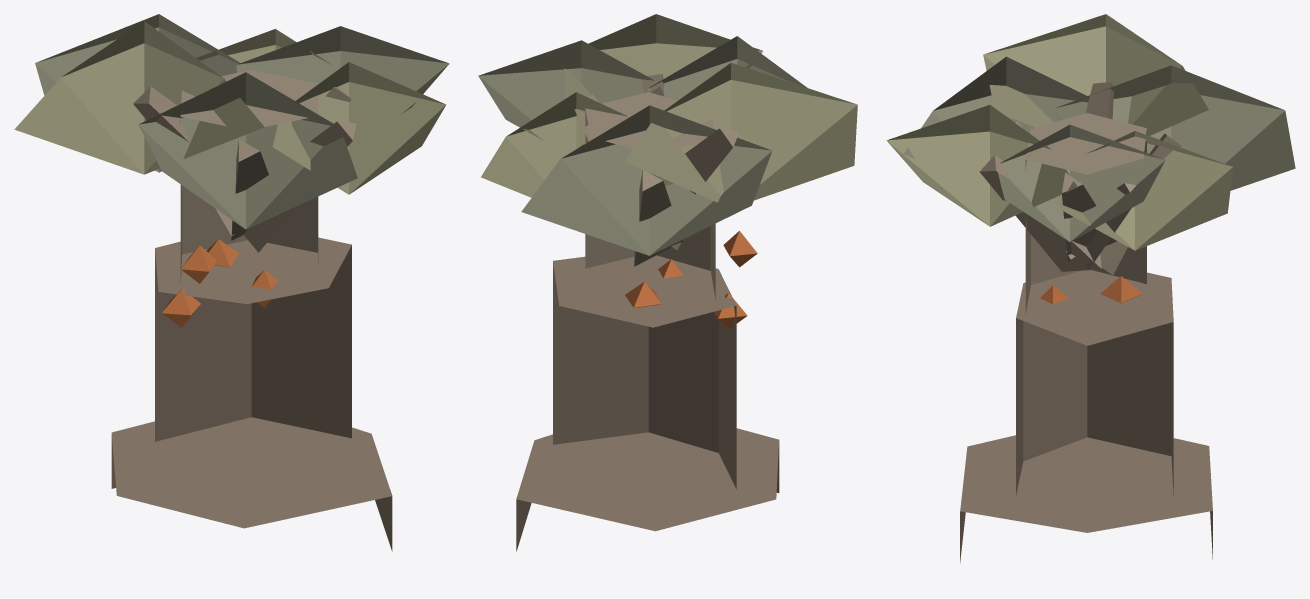
The model's file is tree.trop.baobab__winter.glb.
3 renders of one model, left to right at view 1: azimuth 30°, elevation 25°; view 2: azimuth 150°, elevation 25°; view 3: azimuth 270°, elevation 25°, orthographic. The views are drawn at different scales.
Visible parts, largest first — view 1: tree.trop.baobab__winter; view 2: tree.trop.baobab__winter; view 3: tree.trop.baobab__winter.
Part boxes in pixels (<box>): tree.trop.baobab__winter: <box>14,14,449,551</box>; tree.trop.baobab__winter: <box>478,14,857,551</box>; tree.trop.baobab__winter: <box>886,14,1295,562</box>.
Size of the model in its own units: 6.04 by 7.14 by 5.59.
